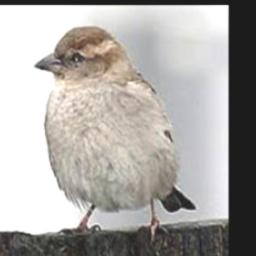Sparrow: (34, 25, 197, 245)
